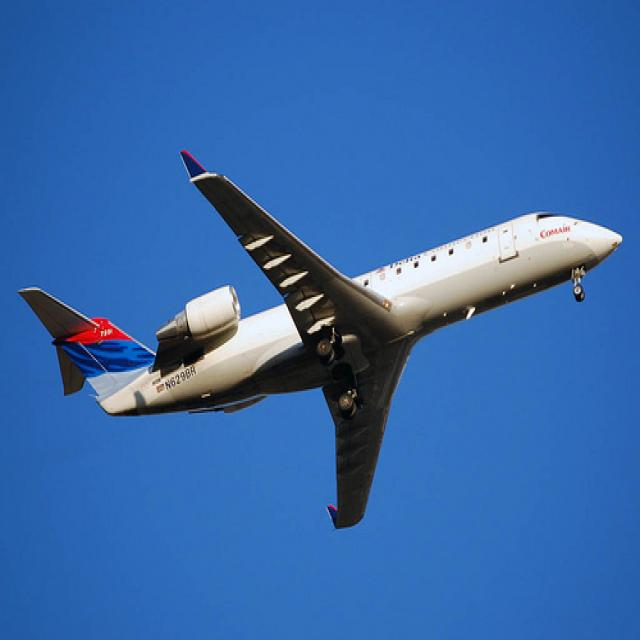aeroplane: (18, 150, 624, 530)
